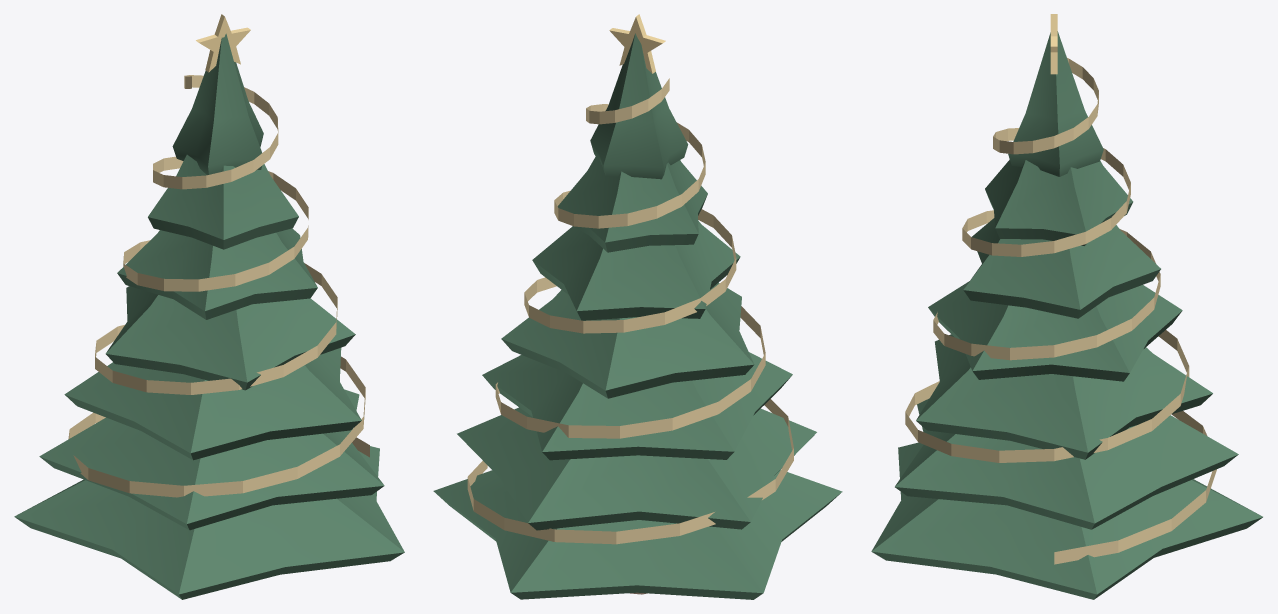
The model's file is julgran.glb.
The picture shows the model from 3 angles, left to right: view 1: azimuth 30°, elevation 25°; view 2: azimuth 150°, elevation 25°; view 3: azimuth 270°, elevation 25°; orthographic projection. The views are drawn at different scales.
Visible parts, largest first — view 1: needles, lights_string, star; view 2: needles, lights_string, star; view 3: needles, lights_string.
Boxes of the visible parts, x1,y1,x2,y2 form: needles: (14,33,404,599); lights_string: (68,75,369,497); star: (196,14,250,72); needles: (433,33,842,599); lights_string: (467,78,793,544); star: (609,14,665,73); needles: (871,31,1262,599); lights_string: (905,58,1216,564).
Bounding box in the file's own units: 3.5 × 5.33 × 3.44.
